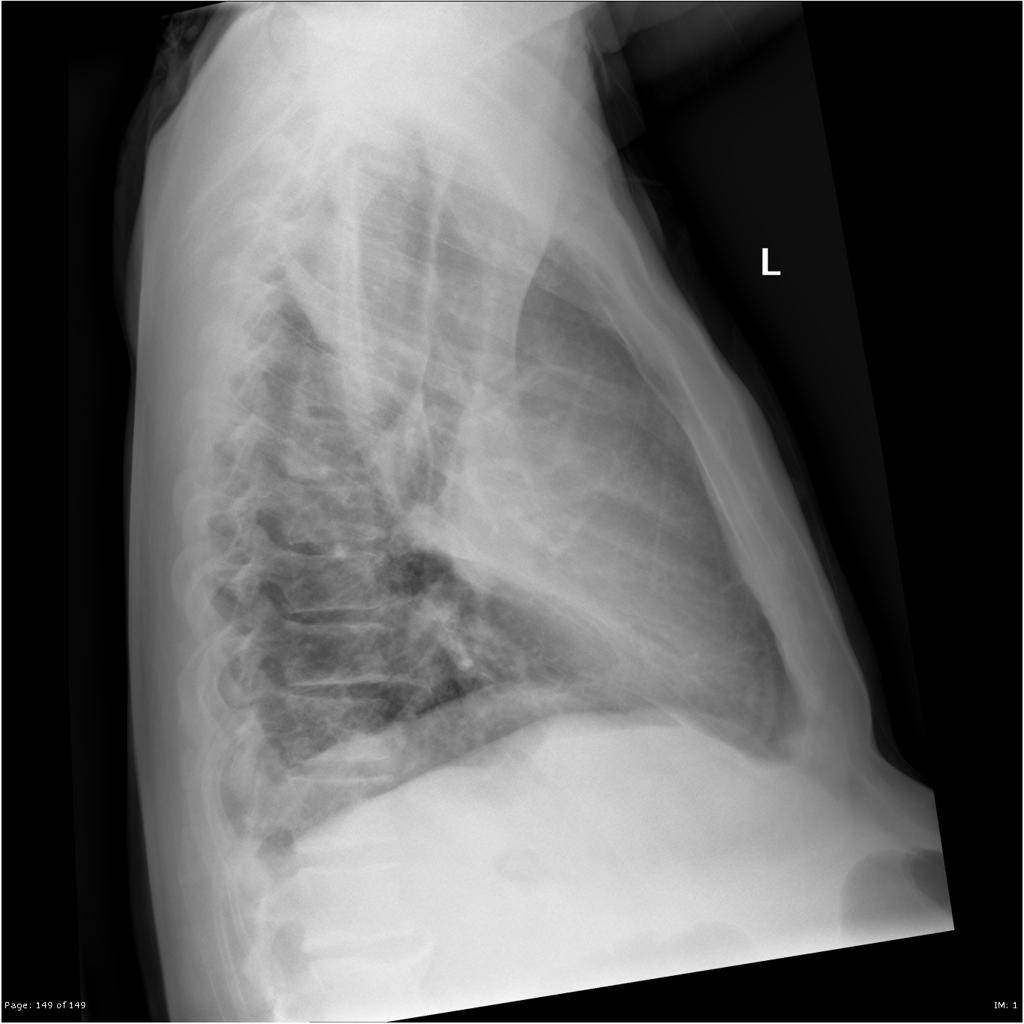cancer: (193, 187, 656, 882)
